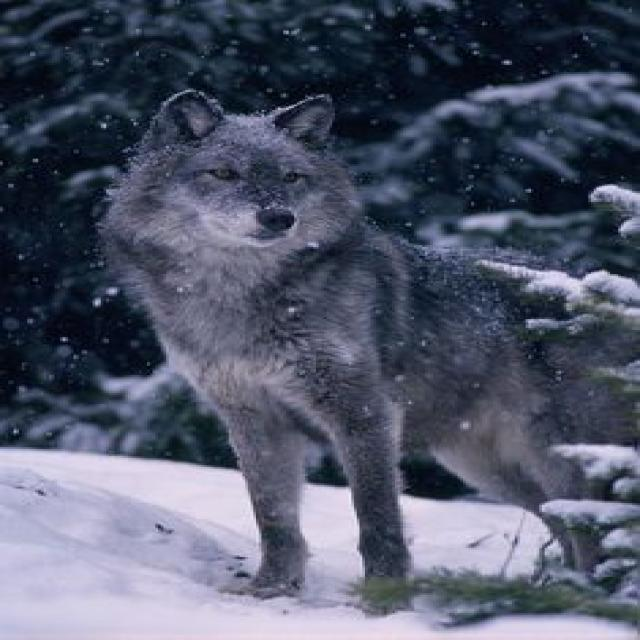Carnivorous: (98, 90, 583, 608)
